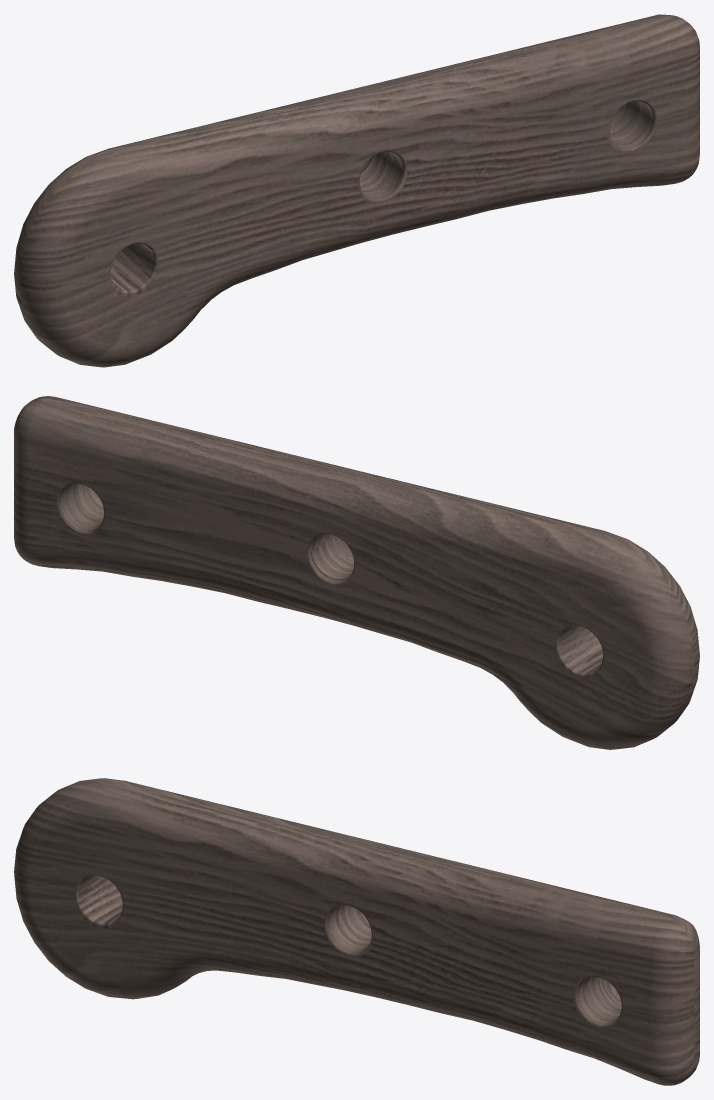
File: HiltWood.obj
The picture shows the model from 3 angles, top to bottom: view 1: azimuth 30°, elevation 25°; view 2: azimuth 150°, elevation 25°; view 3: azimuth 330°, elevation 25°; orthographic projection.
Parts seen in each view (by area): view 1: HiltWood; view 2: HiltWood; view 3: HiltWood.
Part boxes in pixels (x1,y1,x2,y2): HiltWood: [14, 14, 699, 367]; HiltWood: [14, 396, 699, 749]; HiltWood: [14, 778, 699, 1085].
Bounding box in the file's own units: 0.118 × 0.035 × 0.0104.
Materials: 1 (1 with a texture image).
